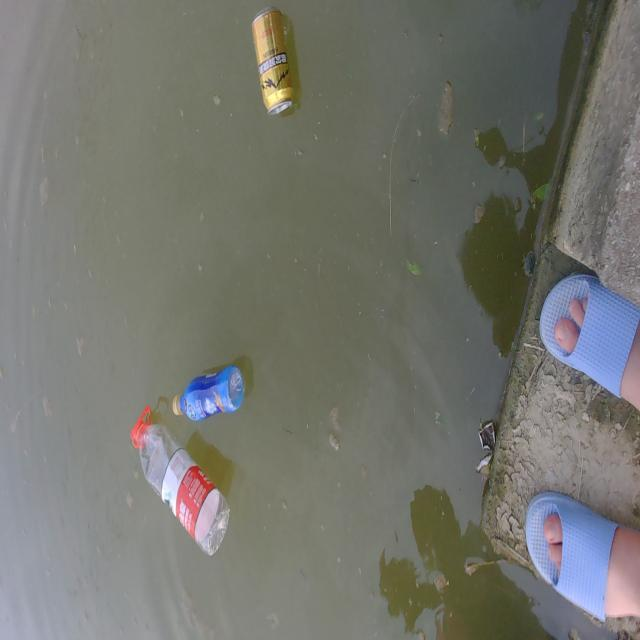bottle: (119, 400, 248, 562), (166, 349, 260, 432)
